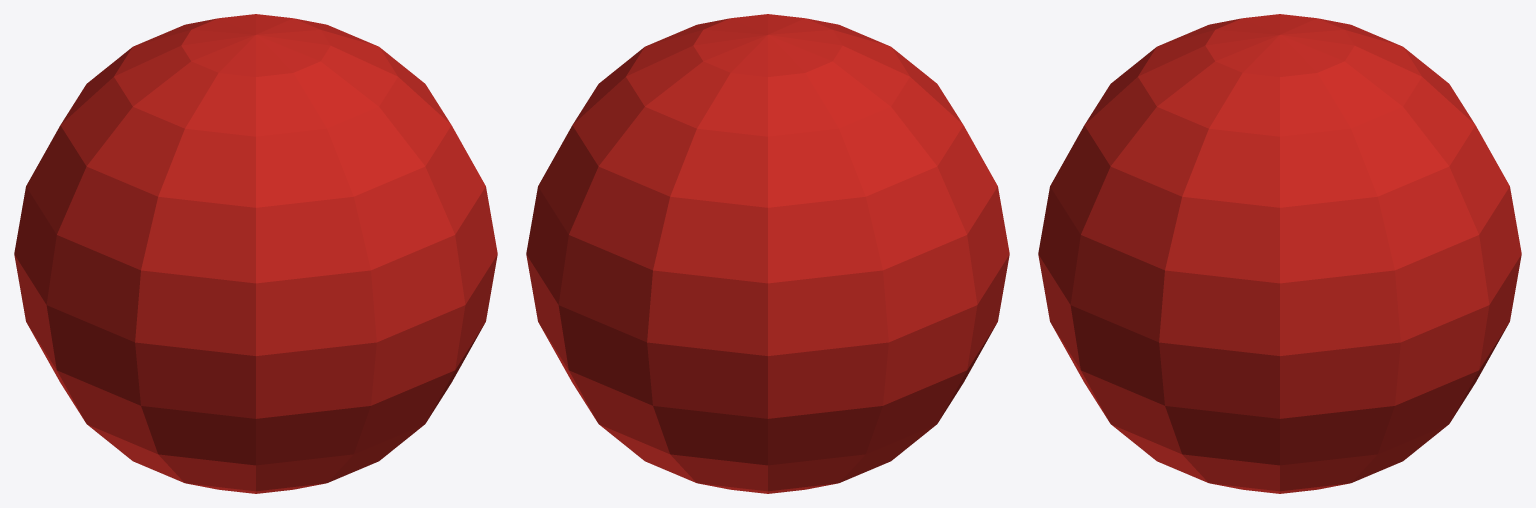
Rendered from ShinyRedBall.fbx.
3 views of the same model, side by side, from view 1: azimuth 30°, elevation 25°; view 2: azimuth 150°, elevation 25°; view 3: azimuth 270°, elevation 25° (orthographic).
Visible parts, largest first — view 1: Sphere; view 2: Sphere; view 3: Sphere.
Part boxes in pixels (x1,y1,x2,y2): Sphere: (14,14,497,493); Sphere: (526,14,1009,493); Sphere: (1038,14,1521,493).
Bounding box in the file's own units: 200 × 200 × 200.
